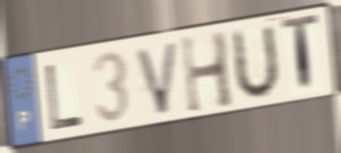3: (90, 47, 132, 127)
H: (179, 28, 237, 117)
L: (43, 62, 86, 134)
T: (279, 11, 321, 96)
U: (231, 21, 282, 105)
V: (133, 38, 181, 118)
